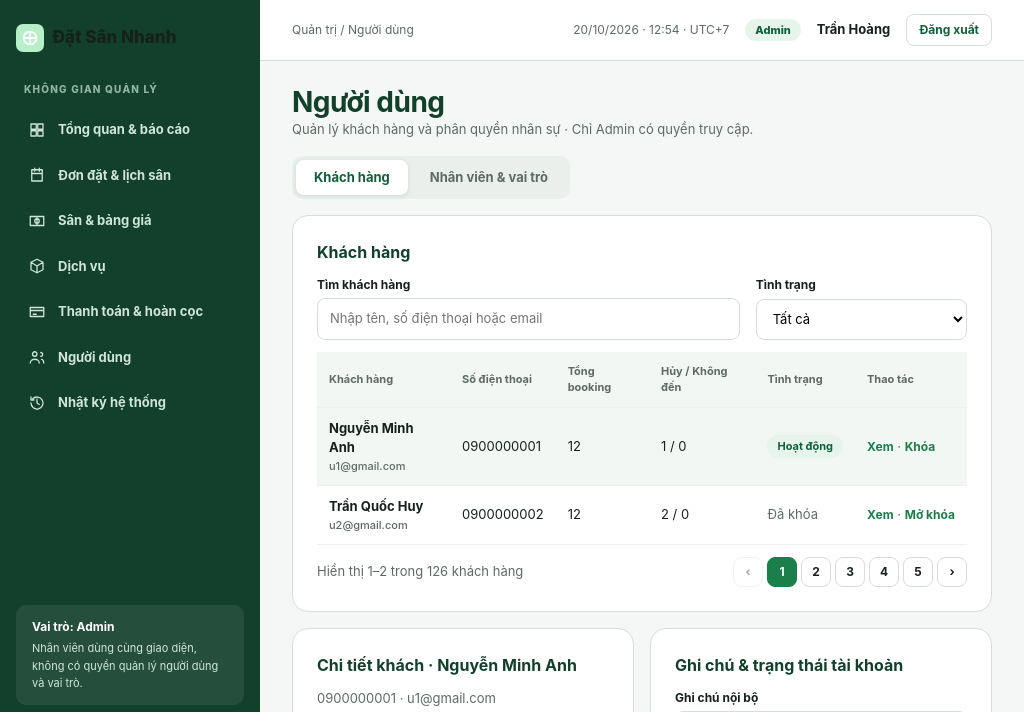
Người dùng - tab Khách hàng › bấm Xem đổi sang khách khác
Check: the heading "Chi tiết khách · Nguyễn Minh Anh" is shown, box [317,653,609,677]
Click the button named "Xem Trần Quốc Huy".
click(880, 515)  # box [867,506,894,524]
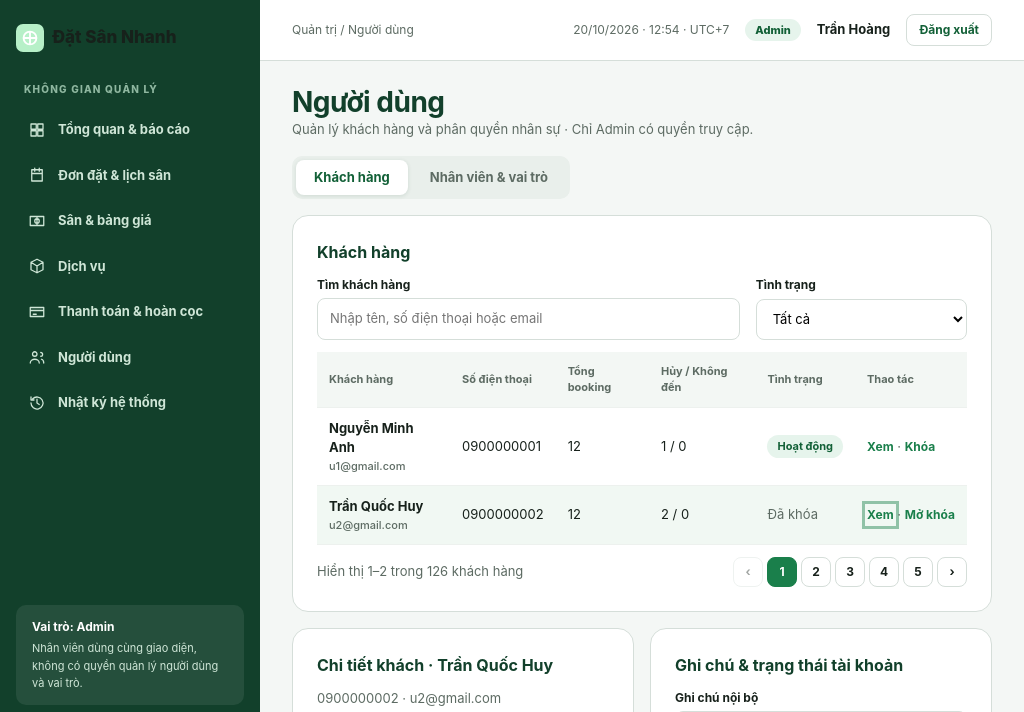
Check: the heading "Chi tiết khách · Trần Quốc Huy" is shown, box [317,655,553,675]
